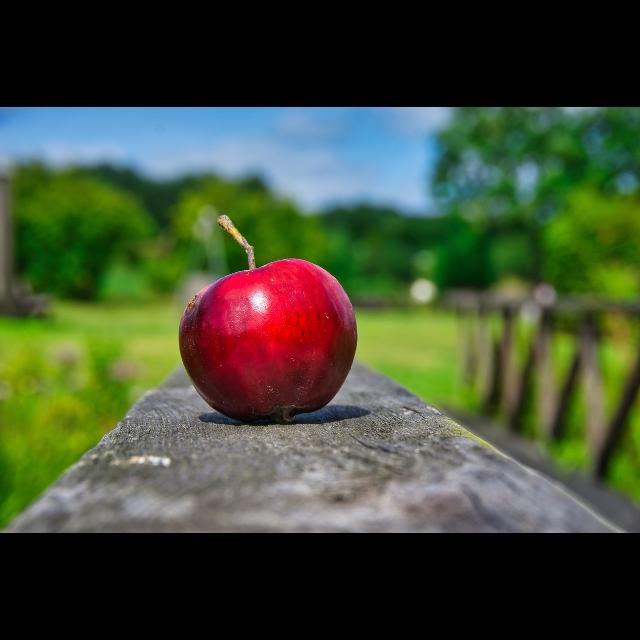Apel Segar: (163, 258, 373, 428)
